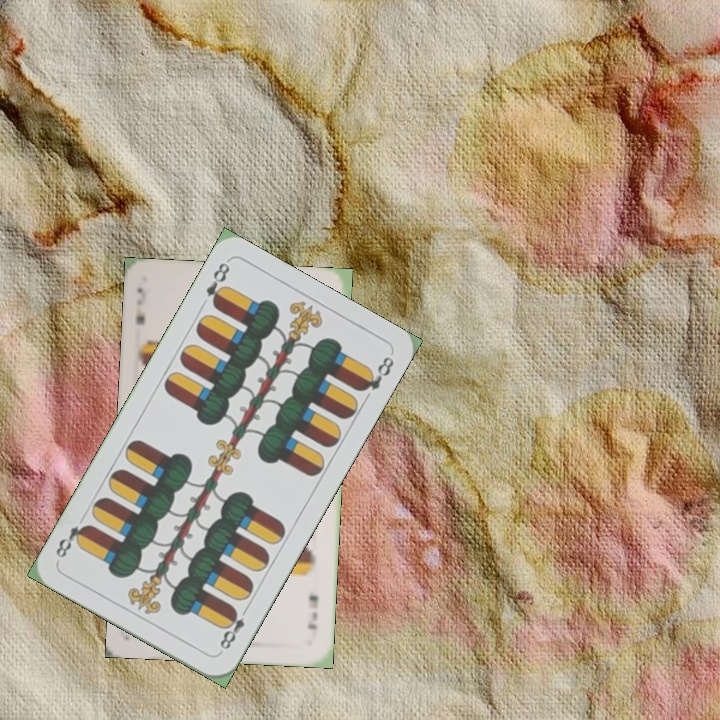E7: (132, 283, 149, 328), (303, 591, 321, 633)
E8: (215, 602, 252, 656), (201, 258, 233, 310)
